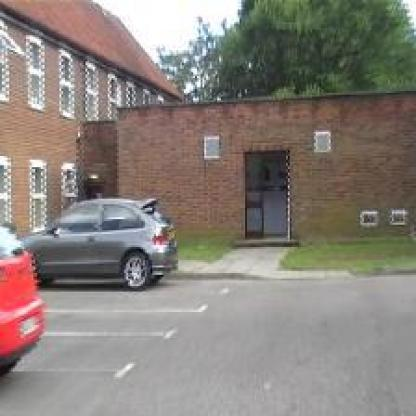other: (1, 211, 46, 357)
